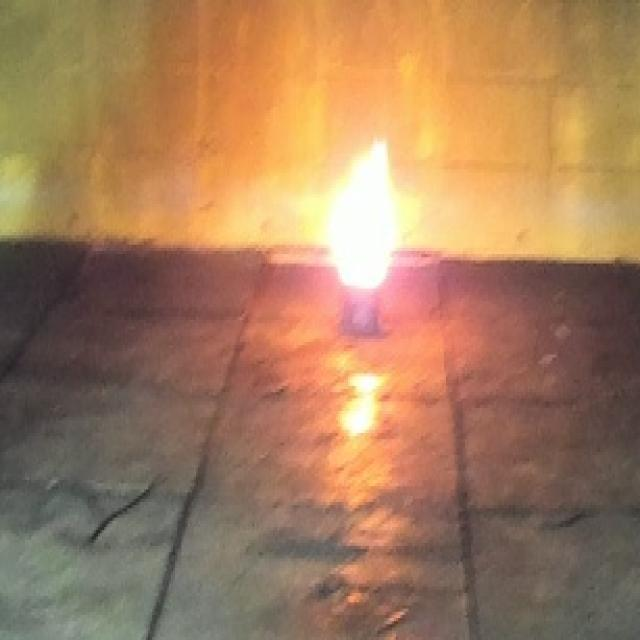Fire: (332, 134, 394, 288)
